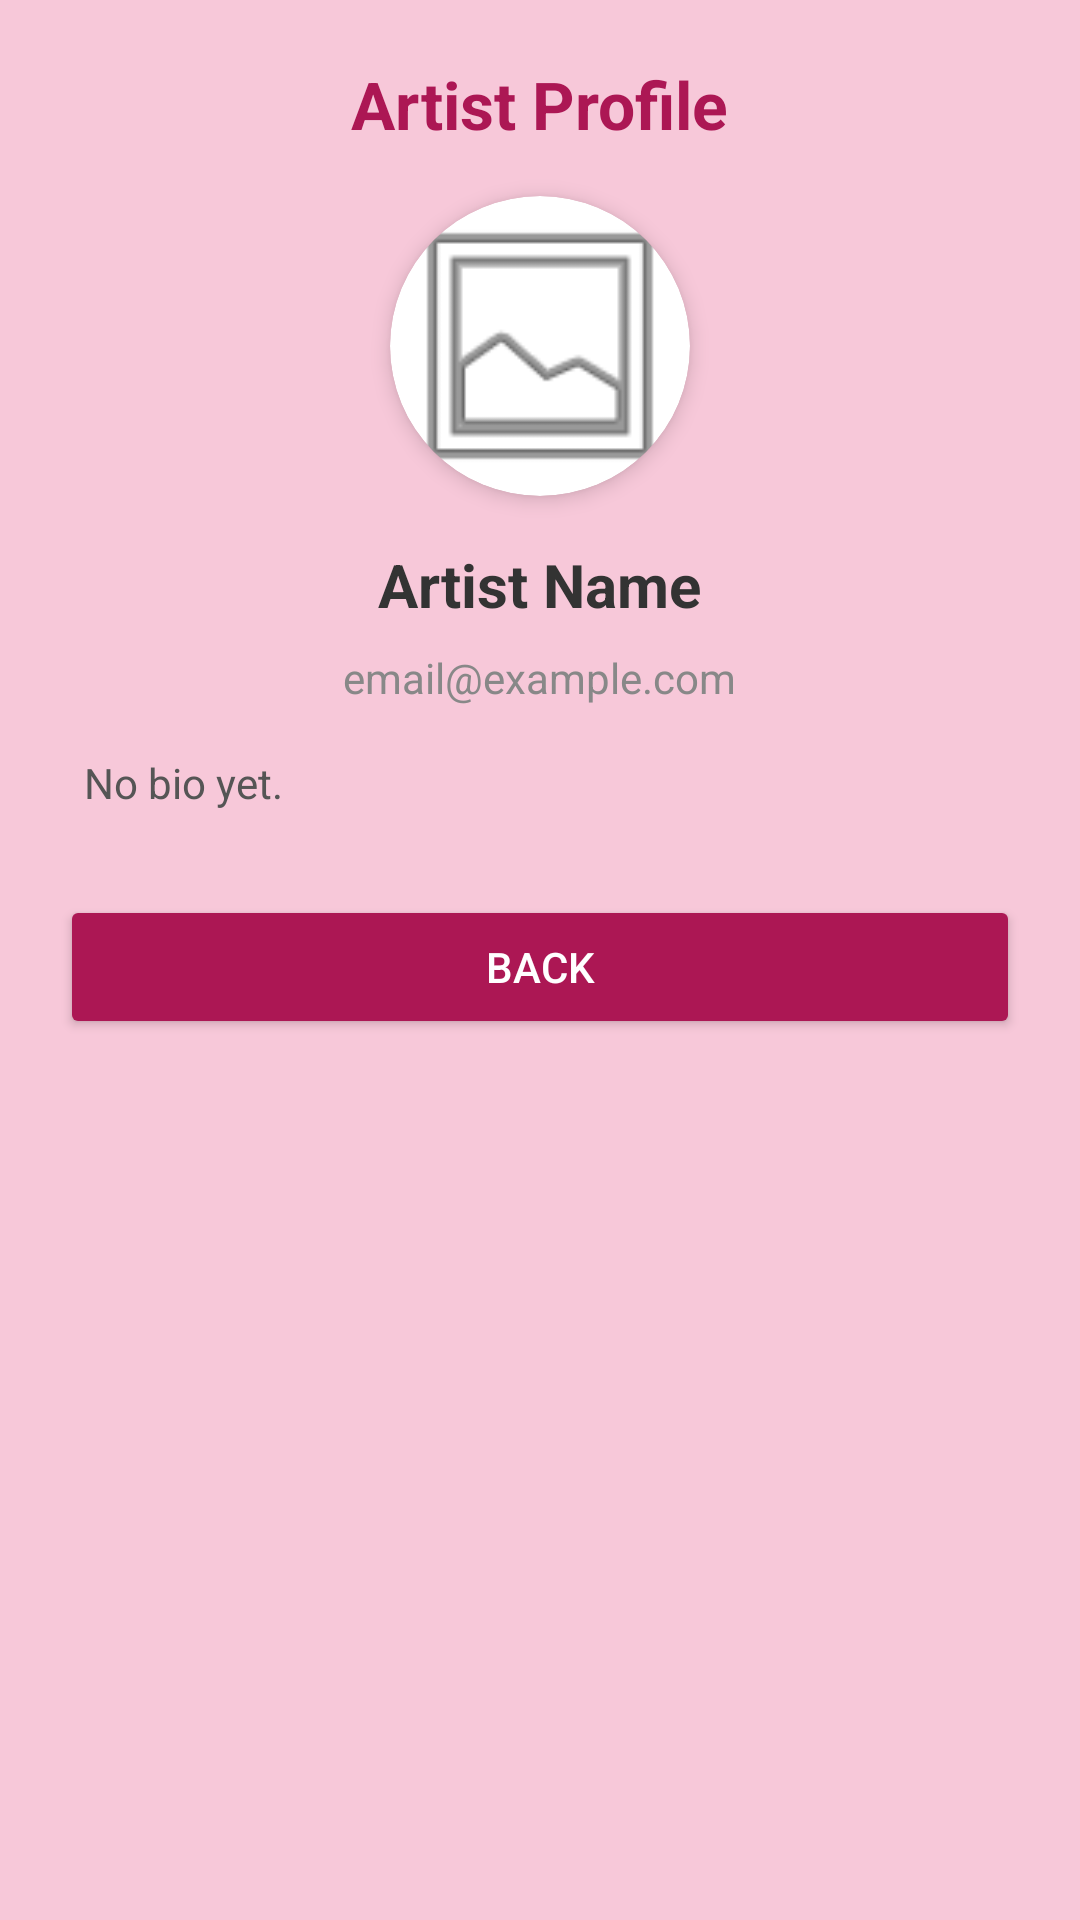

Icons on this 1080px x 1920px Android screen, each with the point to tap as [x,y]:
gallery: [540,346]
